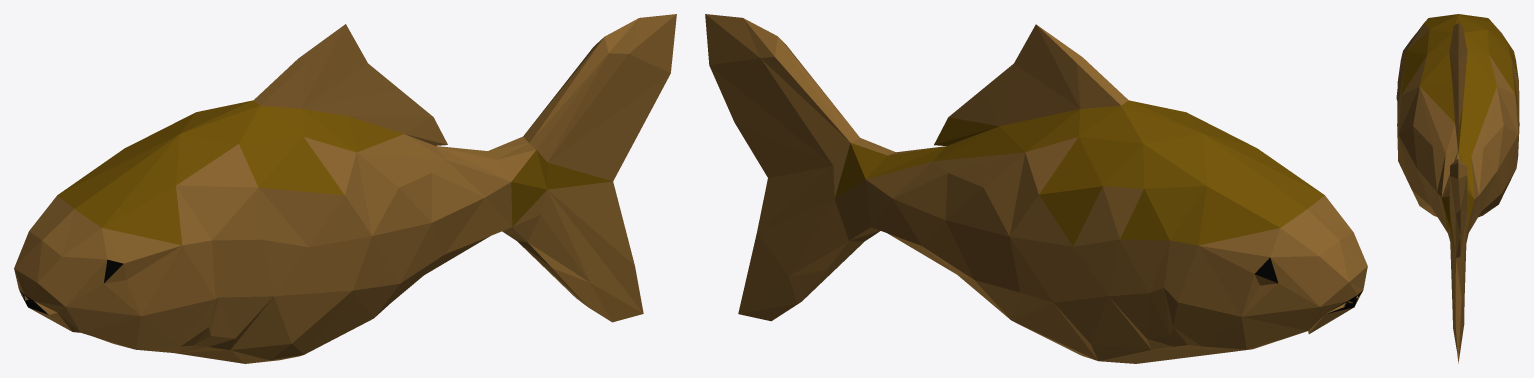
Rendered from Pez.fbx.
3 views of the same model, side by side, from view 1: azimuth 30°, elevation 25°; view 2: azimuth 150°, elevation 25°; view 3: azimuth 270°, elevation 25° (orthographic). The views are drawn at different scales.
Parts seen in each view (by area): view 1: Pez; view 2: Pez; view 3: Pez.
Part boxes in pixels (bbox=[...]): Pez: bbox=[14, 14, 676, 363]; Pez: bbox=[705, 14, 1367, 363]; Pez: bbox=[1396, 14, 1519, 363].
Size of the model in its own units: 383 by 203 by 93.01.
